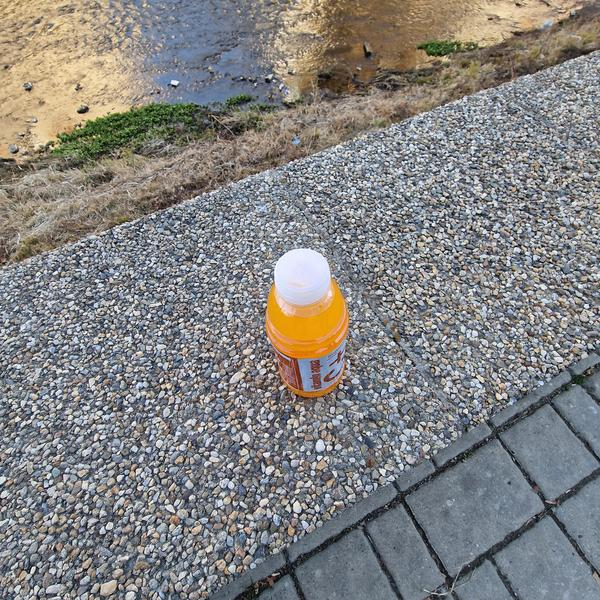plastic_bottle: (264, 248, 348, 398)
